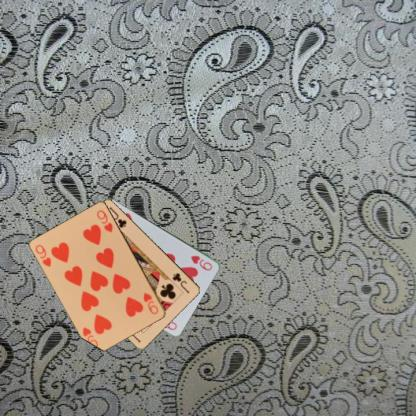9h: (188, 252, 214, 272), (33, 242, 53, 268), (141, 290, 159, 316)
Jc: (170, 270, 191, 295)
